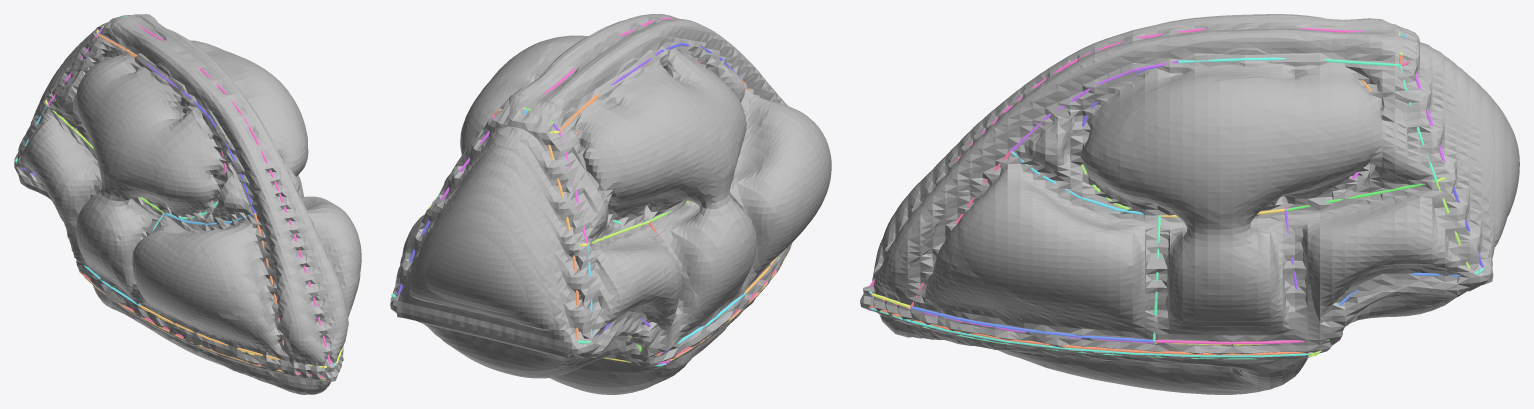
Rendered from onshape_iron.gltf.
The picture shows the model from 3 angles, left to right: view 1: azimuth 30°, elevation 25°; view 2: azimuth 150°, elevation 25°; view 3: azimuth 270°, elevation 25°; orthographic projection. The views are drawn at different scales.
Size of the model in its own units: 0.4204 by 0.5478 by 0.8984.
